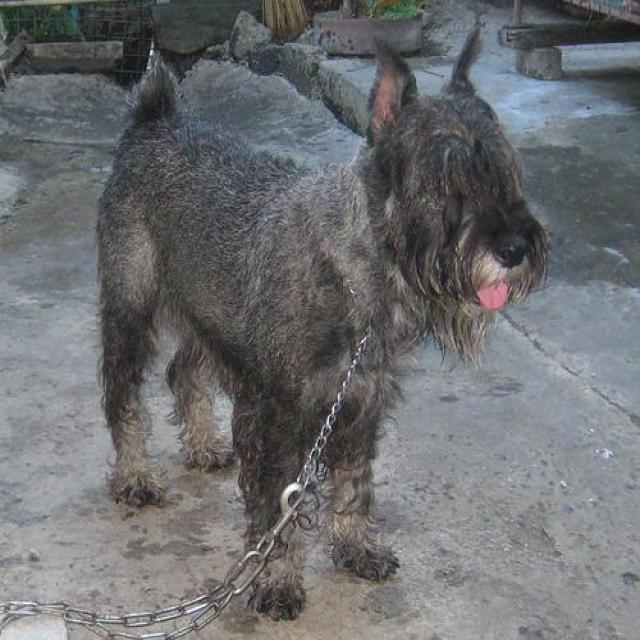standard_schnauzer: (91, 14, 550, 624)
